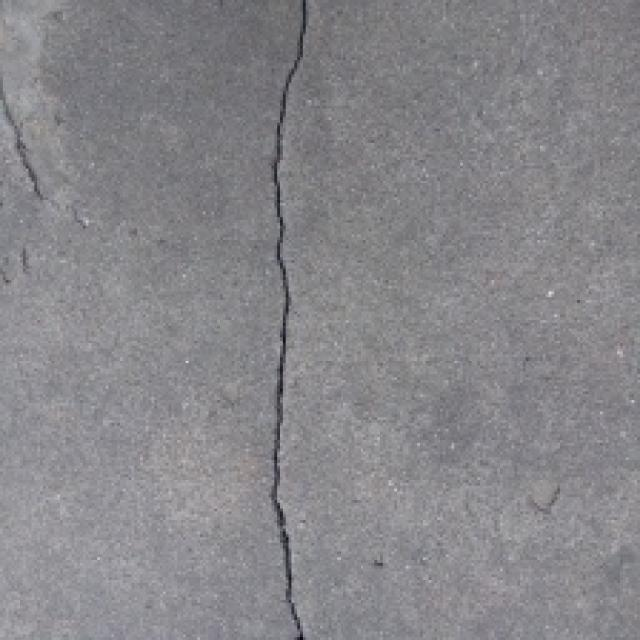SurfaceCrack: (244, 2, 346, 640)
